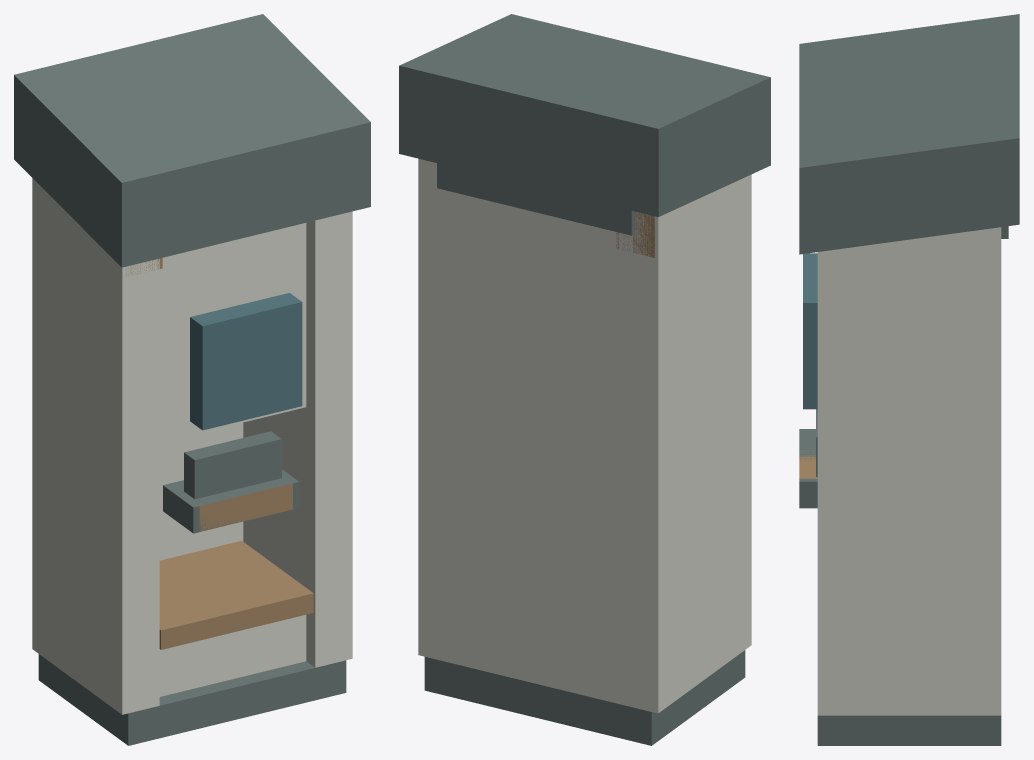
The model's file is range_ball_dispenser_03.glb.
3 views of the same model, side by side, from view 1: azimuth 30°, elevation 25°; view 2: azimuth 150°, elevation 25°; view 3: azimuth 270°, elevation 25° (orthographic). The views are drawn at different scales.
Parts seen in each view (by area): view 1: Range_ball_dispenser_03; view 2: Range_ball_dispenser_03; view 3: Range_ball_dispenser_03.
Boxes of the visible parts, x1=… form: Range_ball_dispenser_03: x1=14, y1=14, x2=370, y2=745; Range_ball_dispenser_03: x1=399, y1=14, x2=770, y2=745; Range_ball_dispenser_03: x1=799, y1=14, x2=1019, y2=745.
Size of the model in its own units: 0.8 by 1.85 by 0.6.
